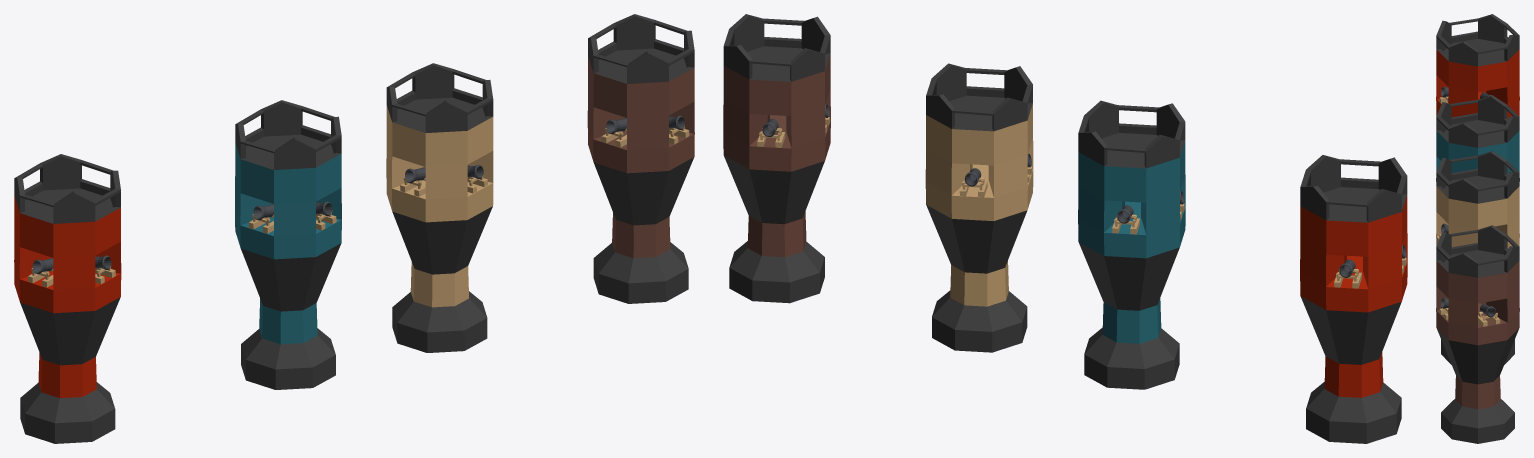
Rendered from Towers.fbx.
The picture shows the model from 3 angles, left to right: view 1: azimuth 30°, elevation 25°; view 2: azimuth 150°, elevation 25°; view 3: azimuth 270°, elevation 25°; orthographic projection. The views are drawn at different scales.
Parts seen in each view (by area): view 1: WoodTower, FireTower, EarthTower, CannonStand.013; view 2: EarthTower, FireTower, CannonStand.013, WoodTower; view 3: EarthTower, FireTower, WoodTower, CannonStand.013.
Boxes of the visible parts, x1,y1,x2,y2 form: WoodTower: [386, 63, 493, 352]; FireTower: [14, 154, 121, 443]; EarthTower: [587, 14, 694, 303]; CannonStand.013: [235, 100, 341, 389]; EarthTower: [723, 14, 830, 303]; FireTower: [1300, 155, 1407, 443]; CannonStand.013: [1078, 100, 1185, 389]; WoodTower: [925, 63, 1033, 352]; EarthTower: [1436, 225, 1519, 443]; FireTower: [1436, 14, 1519, 118]; WoodTower: [1436, 151, 1519, 364]; CannonStand.013: [1436, 95, 1519, 181].
Size of the model in its own units: 1573 by 566 by 226.
